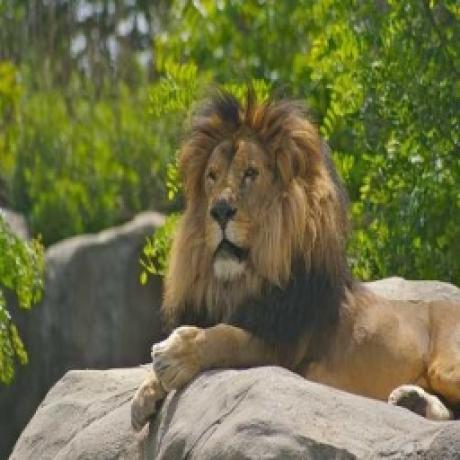Lion: (127, 80, 460, 431)
